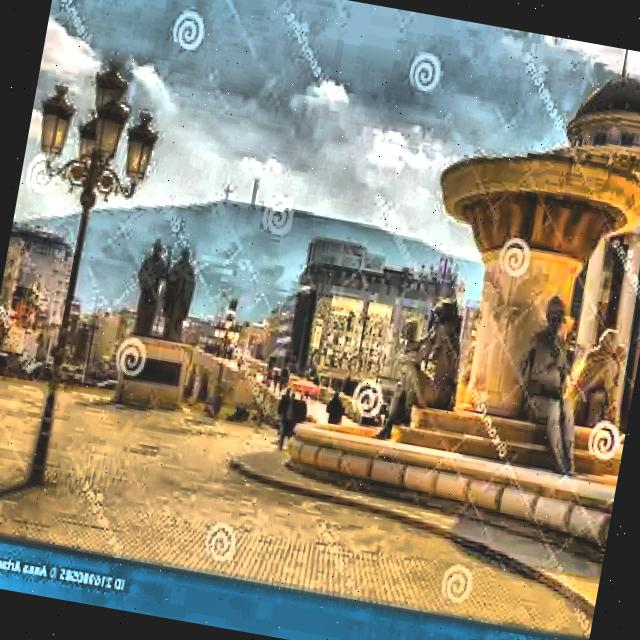stone bridge: (178, 332, 390, 439)
